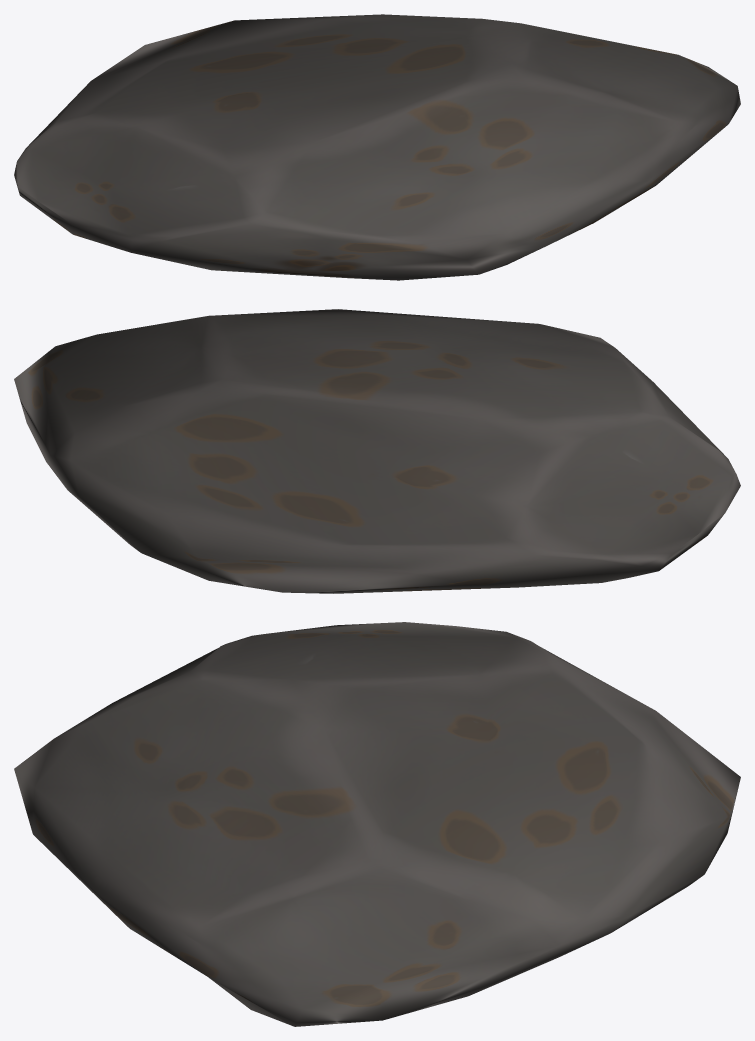
Rendered from Rock Plant 4.FBX.
The picture shows the model from 3 angles, top to bottom: view 1: azimuth 30°, elevation 25°; view 2: azimuth 150°, elevation 25°; view 3: azimuth 270°, elevation 25°; orthographic projection. The views are drawn at different scales.
Parts seen in each view (by area): view 1: ROCK Plant 4; view 2: ROCK Plant 4; view 3: ROCK Plant 4.
Boxes of the visible parts, x1,y1,x2,y2 form: ROCK Plant 4: (14,14,740,280); ROCK Plant 4: (14,309,740,593); ROCK Plant 4: (14,622,740,1026).
Bounding box in the file's own units: 47.23 × 5.55 × 38.67.
